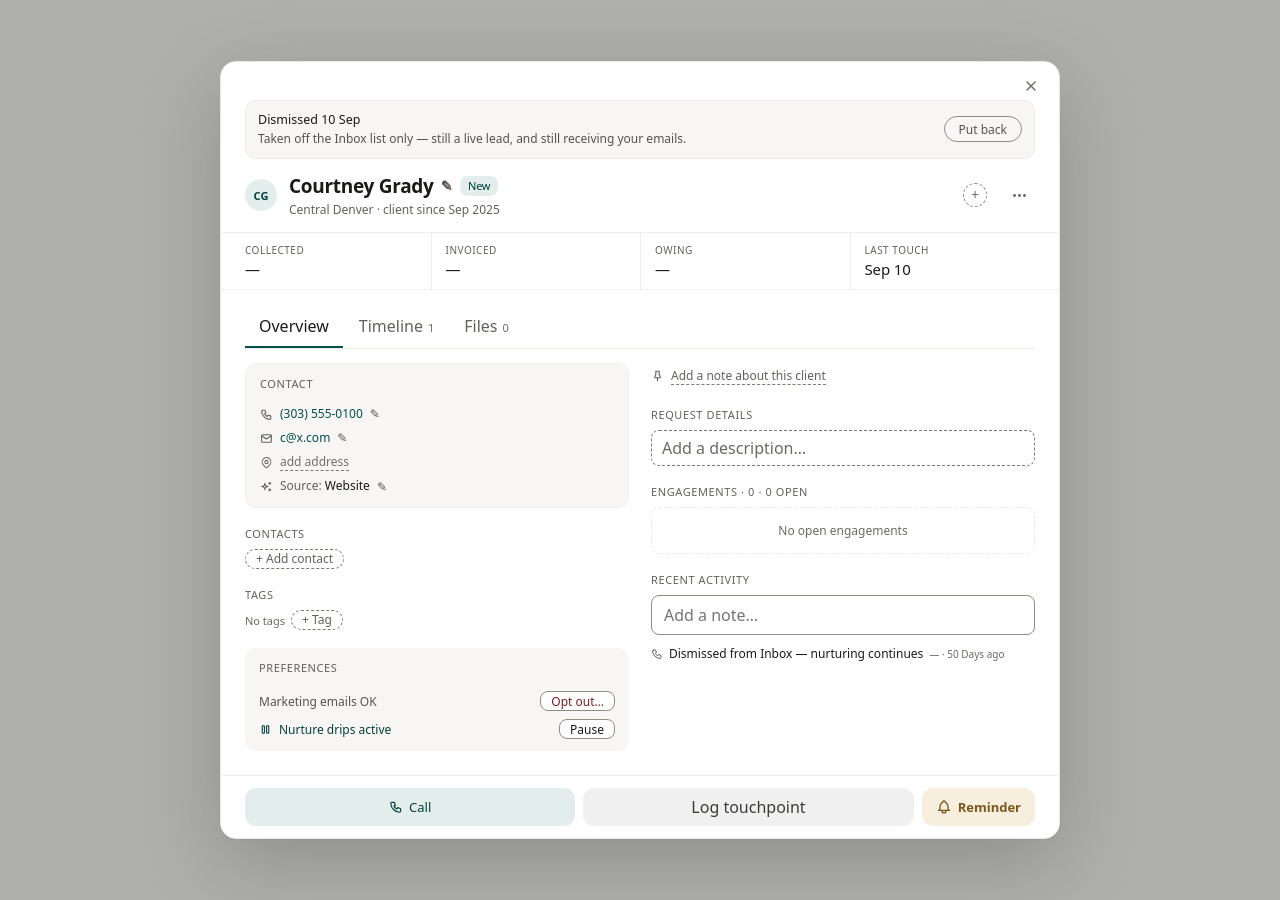
Test: the card line › offers Put back, which clears inbox_dismissed_at
Click the button with test id "card-put-back" at (983, 129), box [944, 116, 1022, 142]
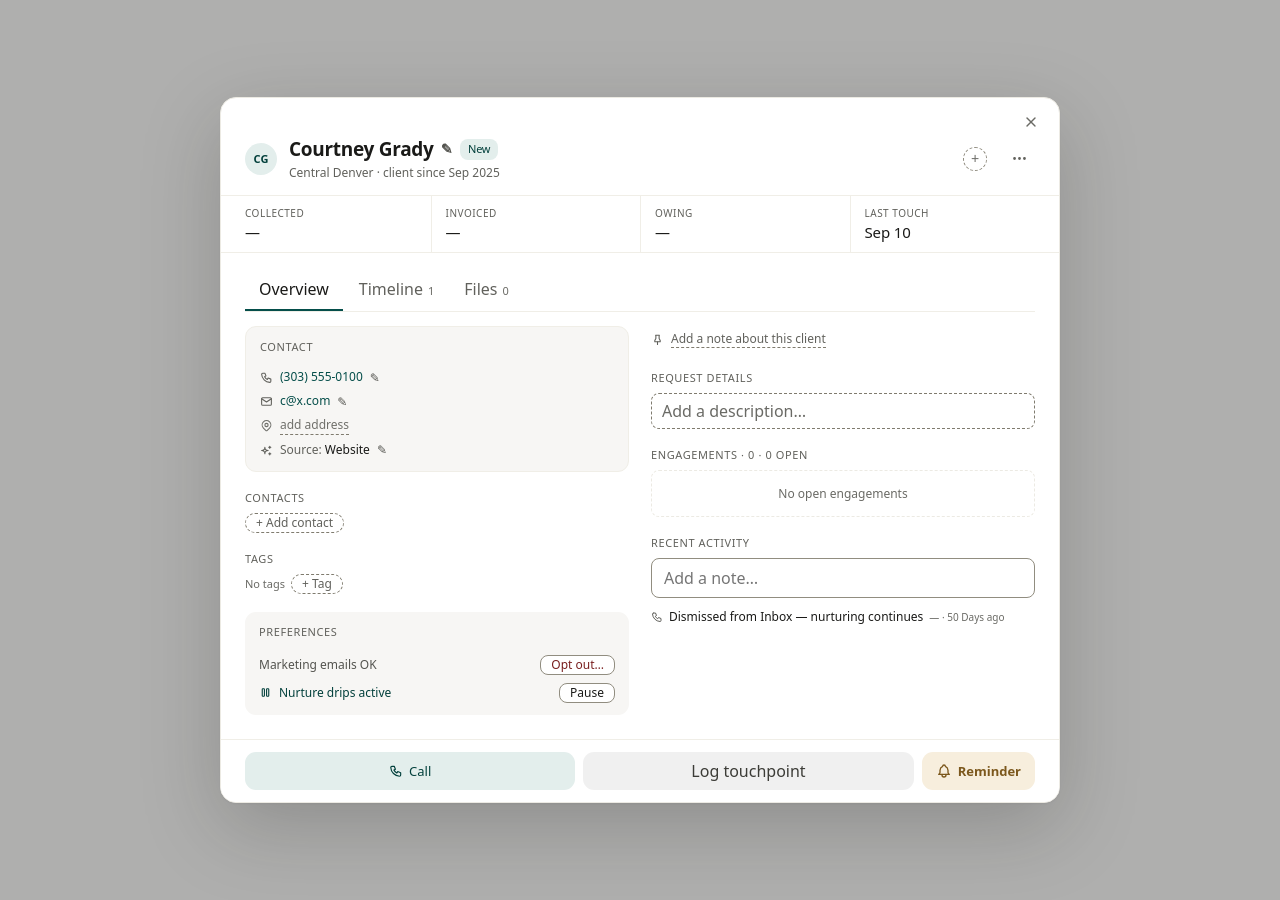
Expected: the element with test id "card-dismissed-notice" is gone
